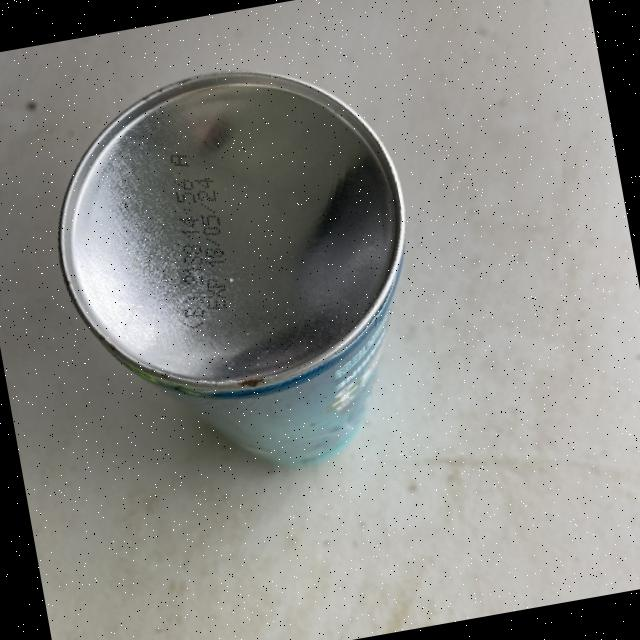metal: (30, 41, 445, 500)
